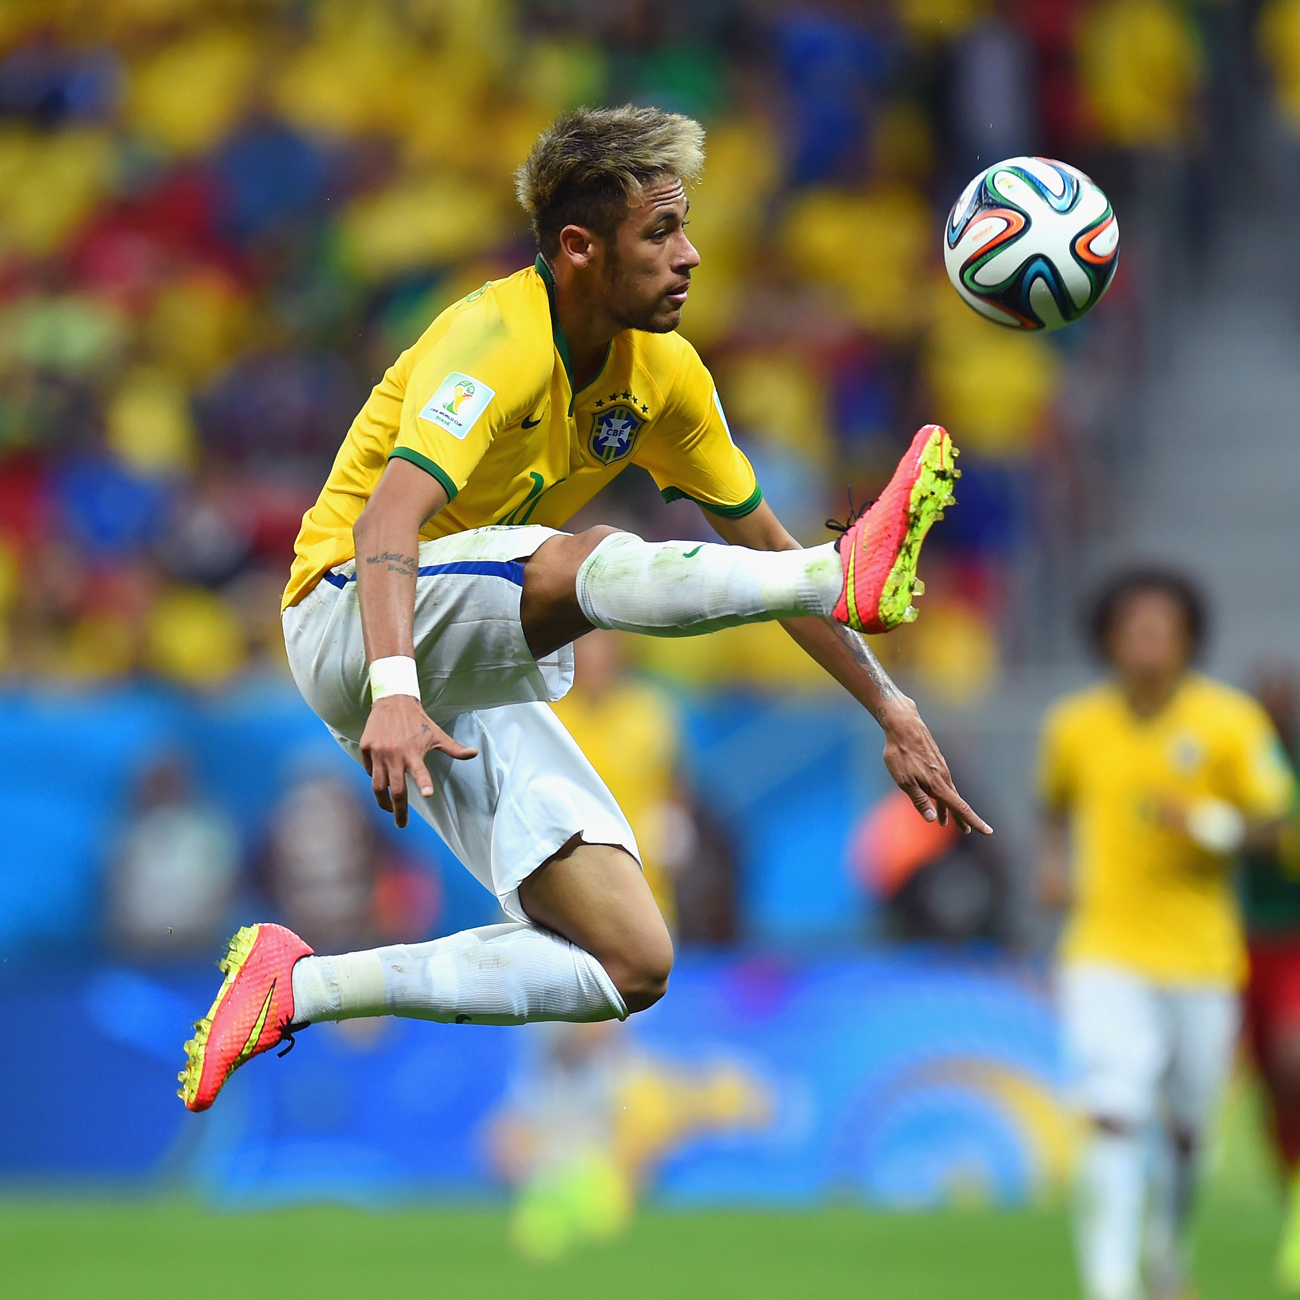football: (938, 150, 1129, 335)
